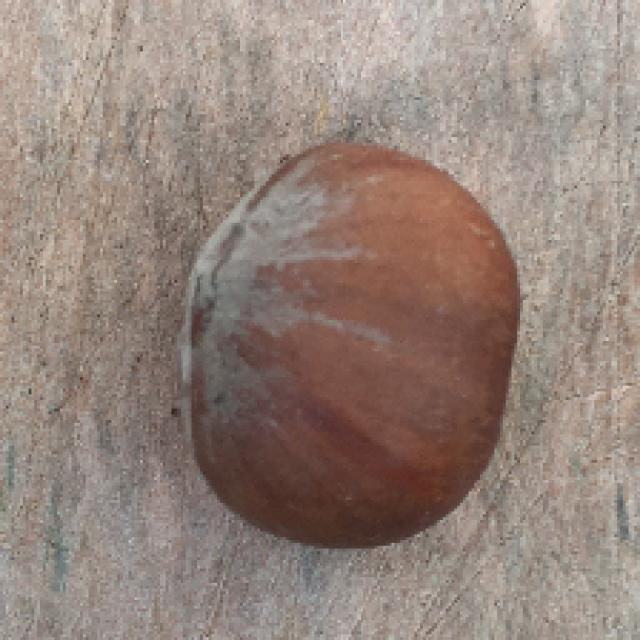DamagedHazelnut: (180, 138, 527, 548)
